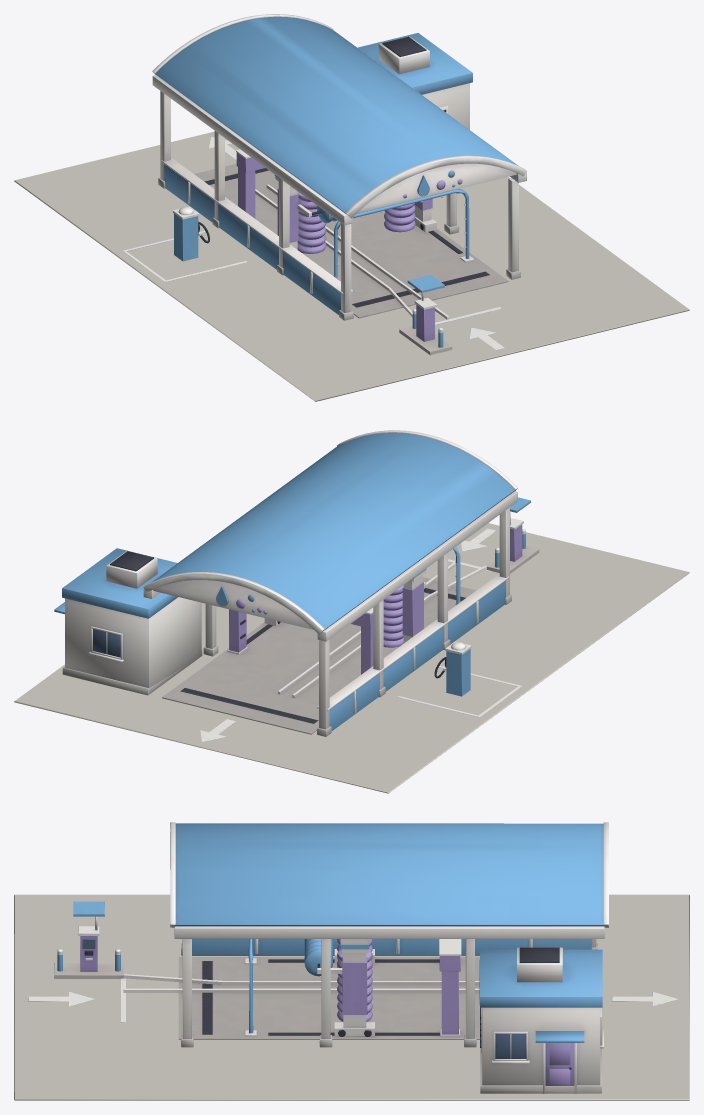
The model's file is car-wash.glb.
3 renders of one model, top to bottom at view 1: azimuth 30°, elevation 25°; view 2: azimuth 150°, elevation 25°; view 3: azimuth 270°, elevation 25°, orthographic. The views are drawn at different scales.
Visible parts, largest first — view 1: car-wash_body, car-wash_ground_slab, car-wash_gantry; view 2: car-wash_body, car-wash_ground_slab, car-wash_gantry; view 3: car-wash_body, car-wash_ground_slab, car-wash_gantry.
Part boxes in pixels (<box>): car-wash_body: <box>122,14,526,355</box>; car-wash_ground_slab: <box>14,131,689,401</box>; car-wash_gantry: <box>194,149,508,319</box>; car-wash_body: <box>54,430,539,741</box>; car-wash_ground_slab: <box>14,523,689,793</box>; car-wash_gantry: <box>162,547,486,734</box>; car-wash_body: <box>28,822,677,1093</box>; car-wash_ground_slab: <box>14,894,689,1100</box>; car-wash_gantry: <box>123,939,479,1039</box>.
Size of the model in its own units: 17.1 by 6.12 by 23.4.
Materials: 3 (2 with a texture image).
